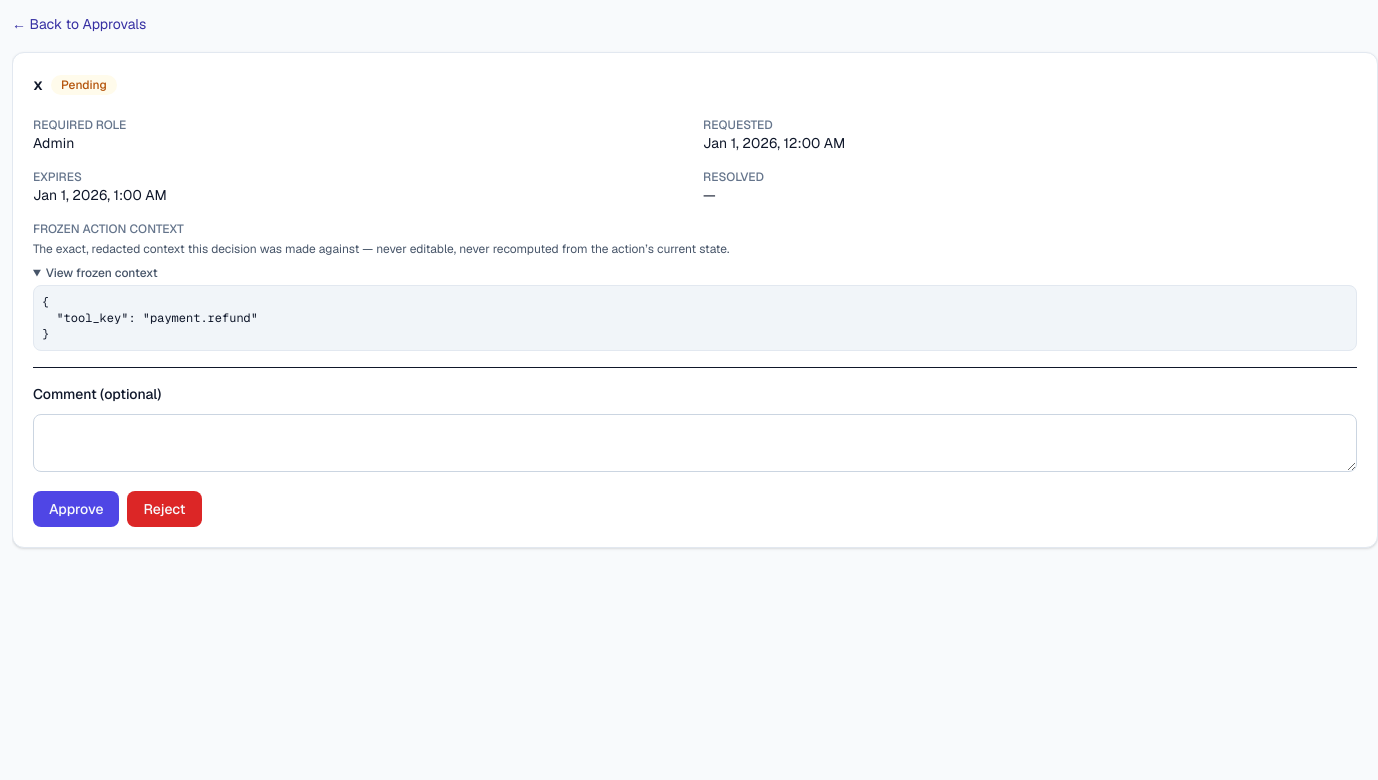
ApprovalDetailPage › shows Approve/Reject controls for a role that satisfies the requirement, and records a real approval
Click the button "Approve" at (76, 509), box [33,491,120,527]
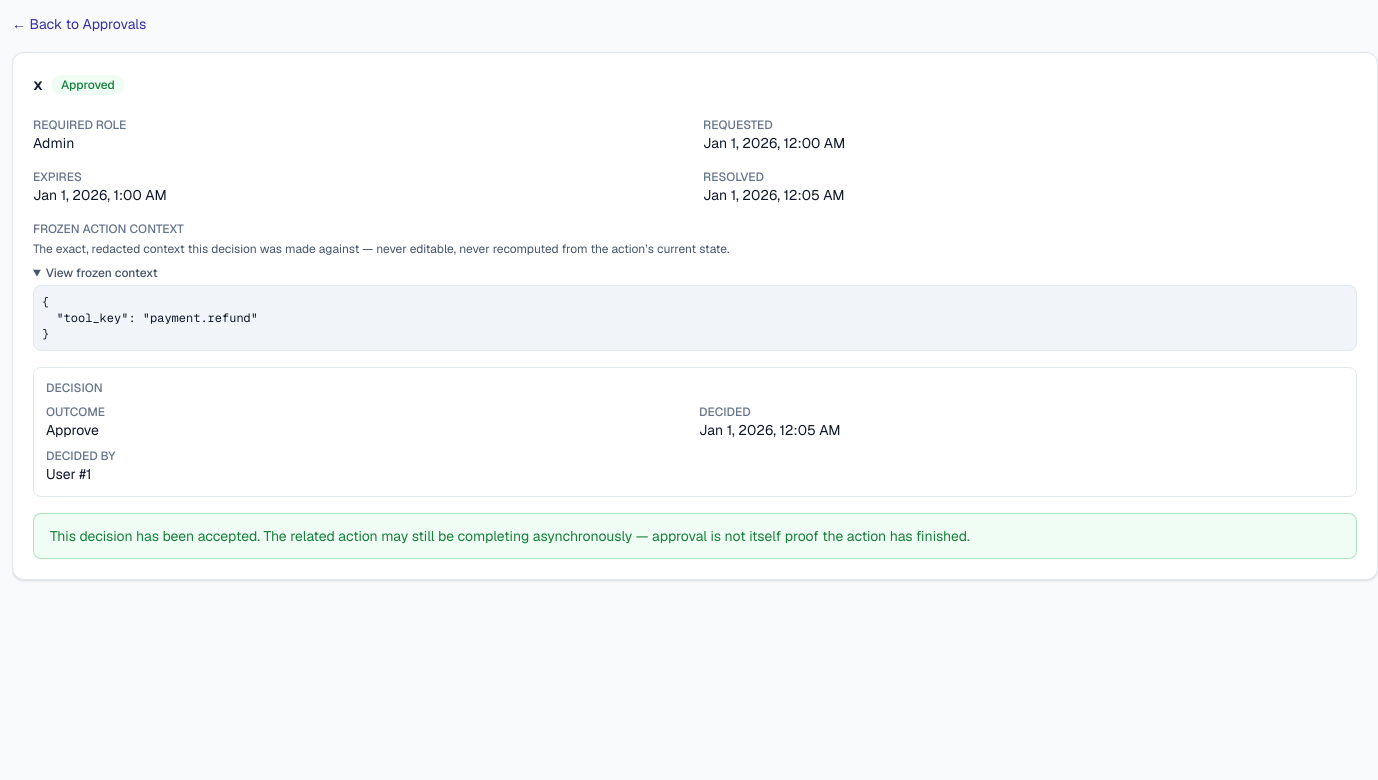
Now the text "Approved" is shown, box [51,75,125,95]
Now the text "approve" is shown, box [46,421,99,439]
Now the button "Reject" is gone
